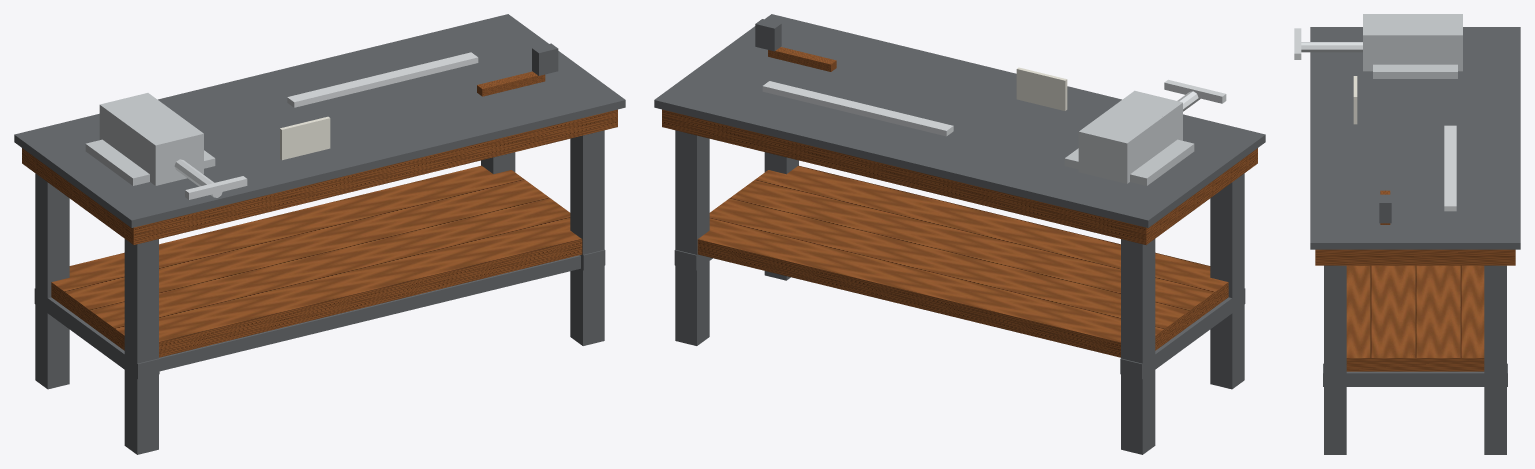
Rendered from workbench-with-engineer-s-vice.glb.
The picture shows the model from 3 angles, left to right: view 1: azimuth 30°, elevation 25°; view 2: azimuth 150°, elevation 25°; view 3: azimuth 270°, elevation 25°; orthographic projection. The views are drawn at different scales.
Visible parts, largest first — view 1: machine-shop-and-factory-hall-workbench-vice, vice-jaw/cast; view 2: machine-shop-and-factory-hall-workbench-vice, vice-jaw/cast; view 3: machine-shop-and-factory-hall-workbench-vice, vice-jaw/cast.
Part boxes in pixels (bbox=[...]): machine-shop-and-factory-hall-workbench-vice: bbox=[14, 14, 625, 454]; vice-jaw/cast: bbox=[136, 119, 203, 185]; machine-shop-and-factory-hall-workbench-vice: bbox=[654, 14, 1265, 454]; vice-jaw/cast: bbox=[1115, 90, 1182, 149]; machine-shop-and-factory-hall-workbench-vice: bbox=[1294, 14, 1520, 454]; vice-jaw/cast: bbox=[1363, 14, 1397, 71].
Bounding box in the file's own units: 2.04 × 1.12 × 0.904.
5 materials, 1 textured.
